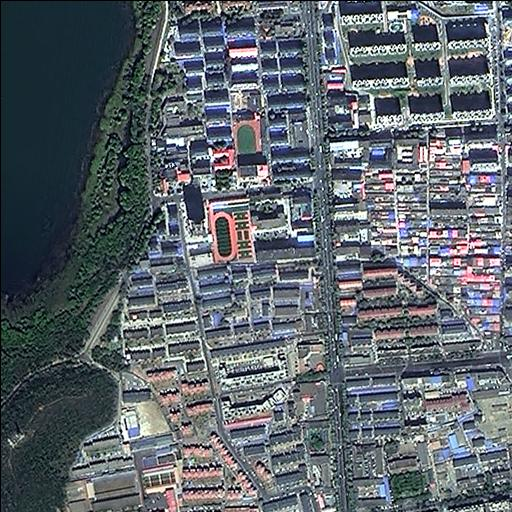school: (205, 191, 320, 266), (231, 114, 271, 192)
